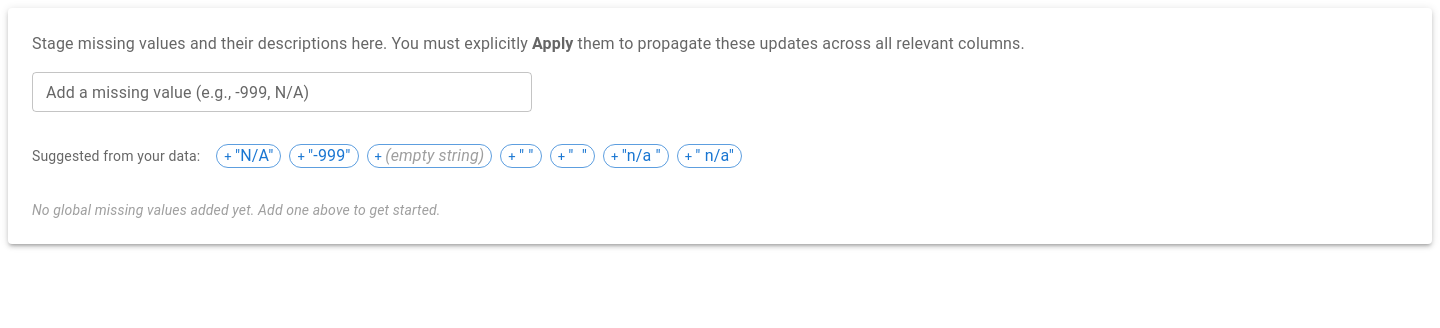
GlobalMissingValues › should allow manually adding a missing value via input
In the field with test id "global-missing-value-input": x=282, y=92 x1=32 y1=72 x2=532 y2=112, type "missing_value"
Then press Enter
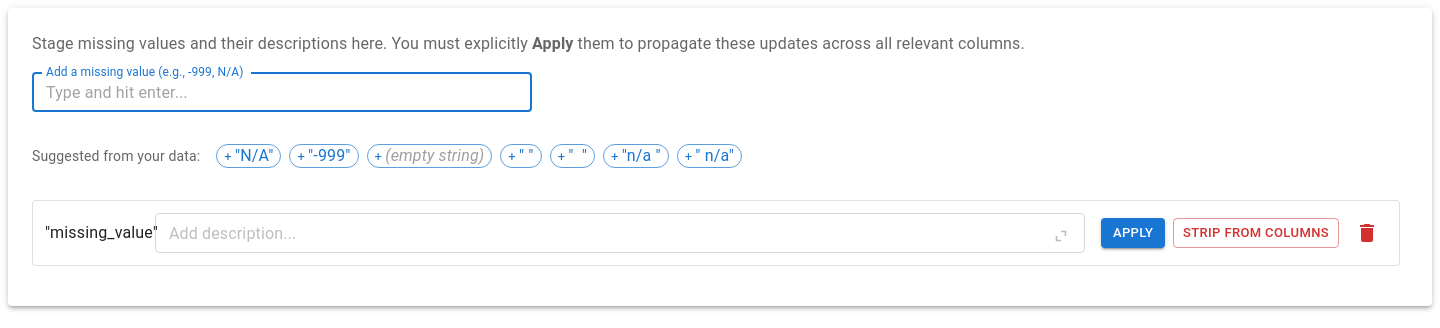
Expected: the element with test id "global-missing-value-card-missing_value" is shown, x1=32 y1=200 x2=1400 y2=266
